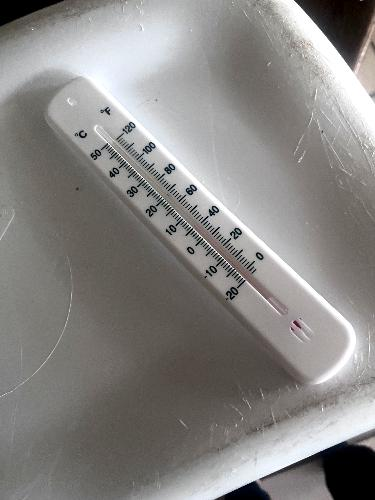thermo: (42, 61, 366, 393)
